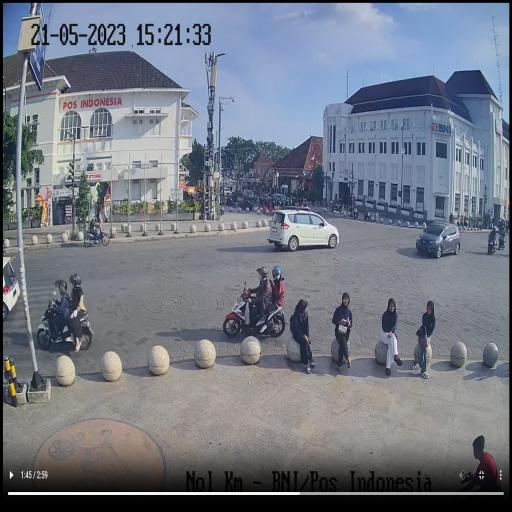mobil: (268, 210, 340, 252), (416, 224, 461, 260)
motor: (223, 279, 286, 343), (38, 290, 97, 358)
